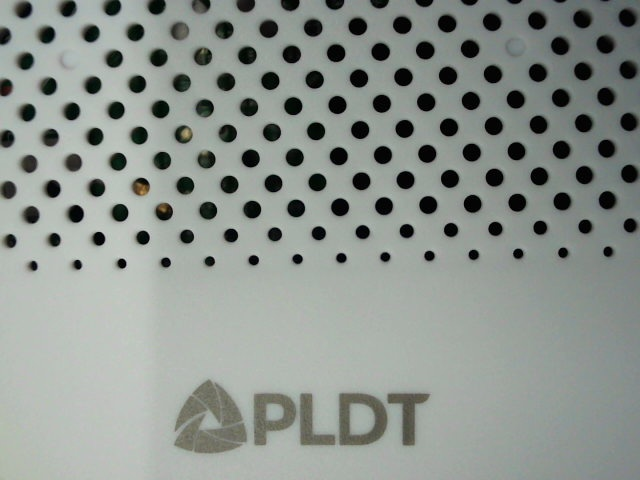BH_PLDT: (147, 362, 440, 463)
